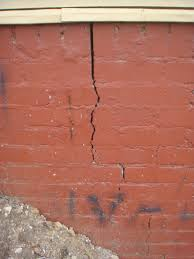crack: (88, 22, 99, 165)
stairstep_crack: (102, 160, 163, 258)
